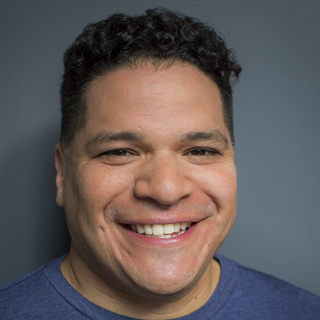eye: (94, 141, 144, 164), (177, 140, 224, 164)
